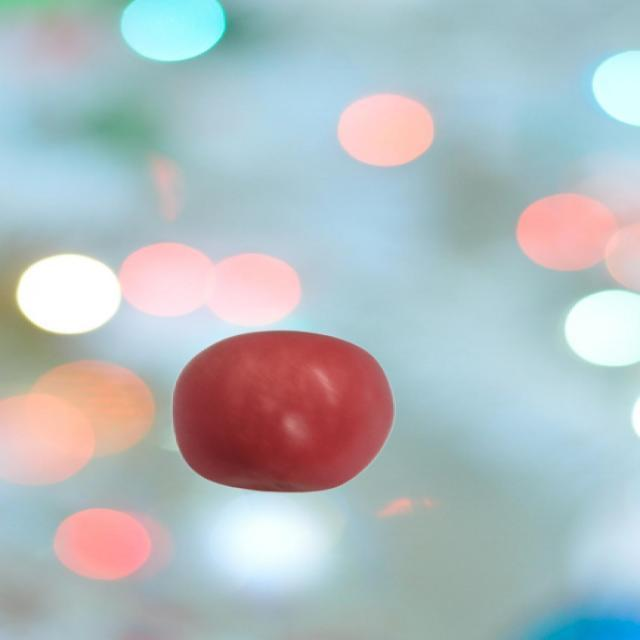apple: (176, 331, 394, 492)
